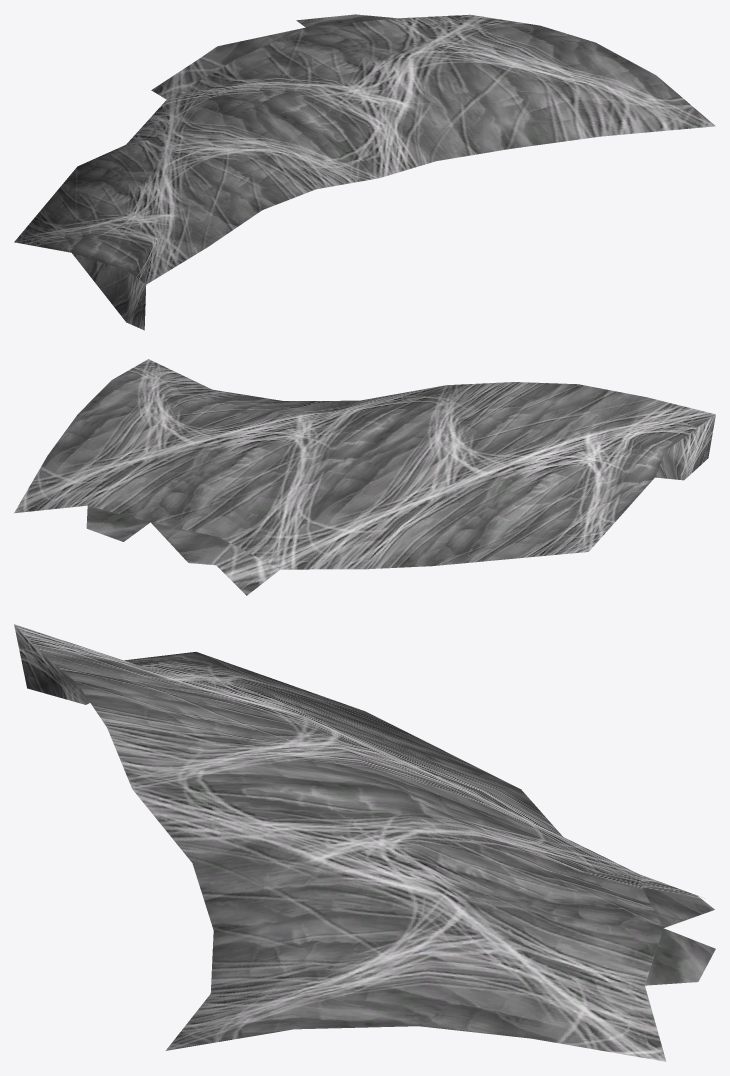
Rendered from SWORDLIGHT20_PS-AREA01_42.fbx.
The picture shows the model from 3 angles, top to bottom: view 1: azimuth 30°, elevation 25°; view 2: azimuth 150°, elevation 25°; view 3: azimuth 270°, elevation 25°; orthographic projection. The views are drawn at different scales.
Parts seen in each view (by area): view 1: SWORDLIGHT20_PS-AREA01_42; view 2: SWORDLIGHT20_PS-AREA01_42; view 3: SWORDLIGHT20_PS-AREA01_42.
Part boxes in pixels (<box>): SWORDLIGHT20_PS-AREA01_42: <box>14,14,715,330</box>; SWORDLIGHT20_PS-AREA01_42: <box>14,359,715,595</box>; SWORDLIGHT20_PS-AREA01_42: <box>14,624,715,1061</box>.
Size of the model in its own units: 119855 by 19120 by 94408.
1 material, 1 textured.
